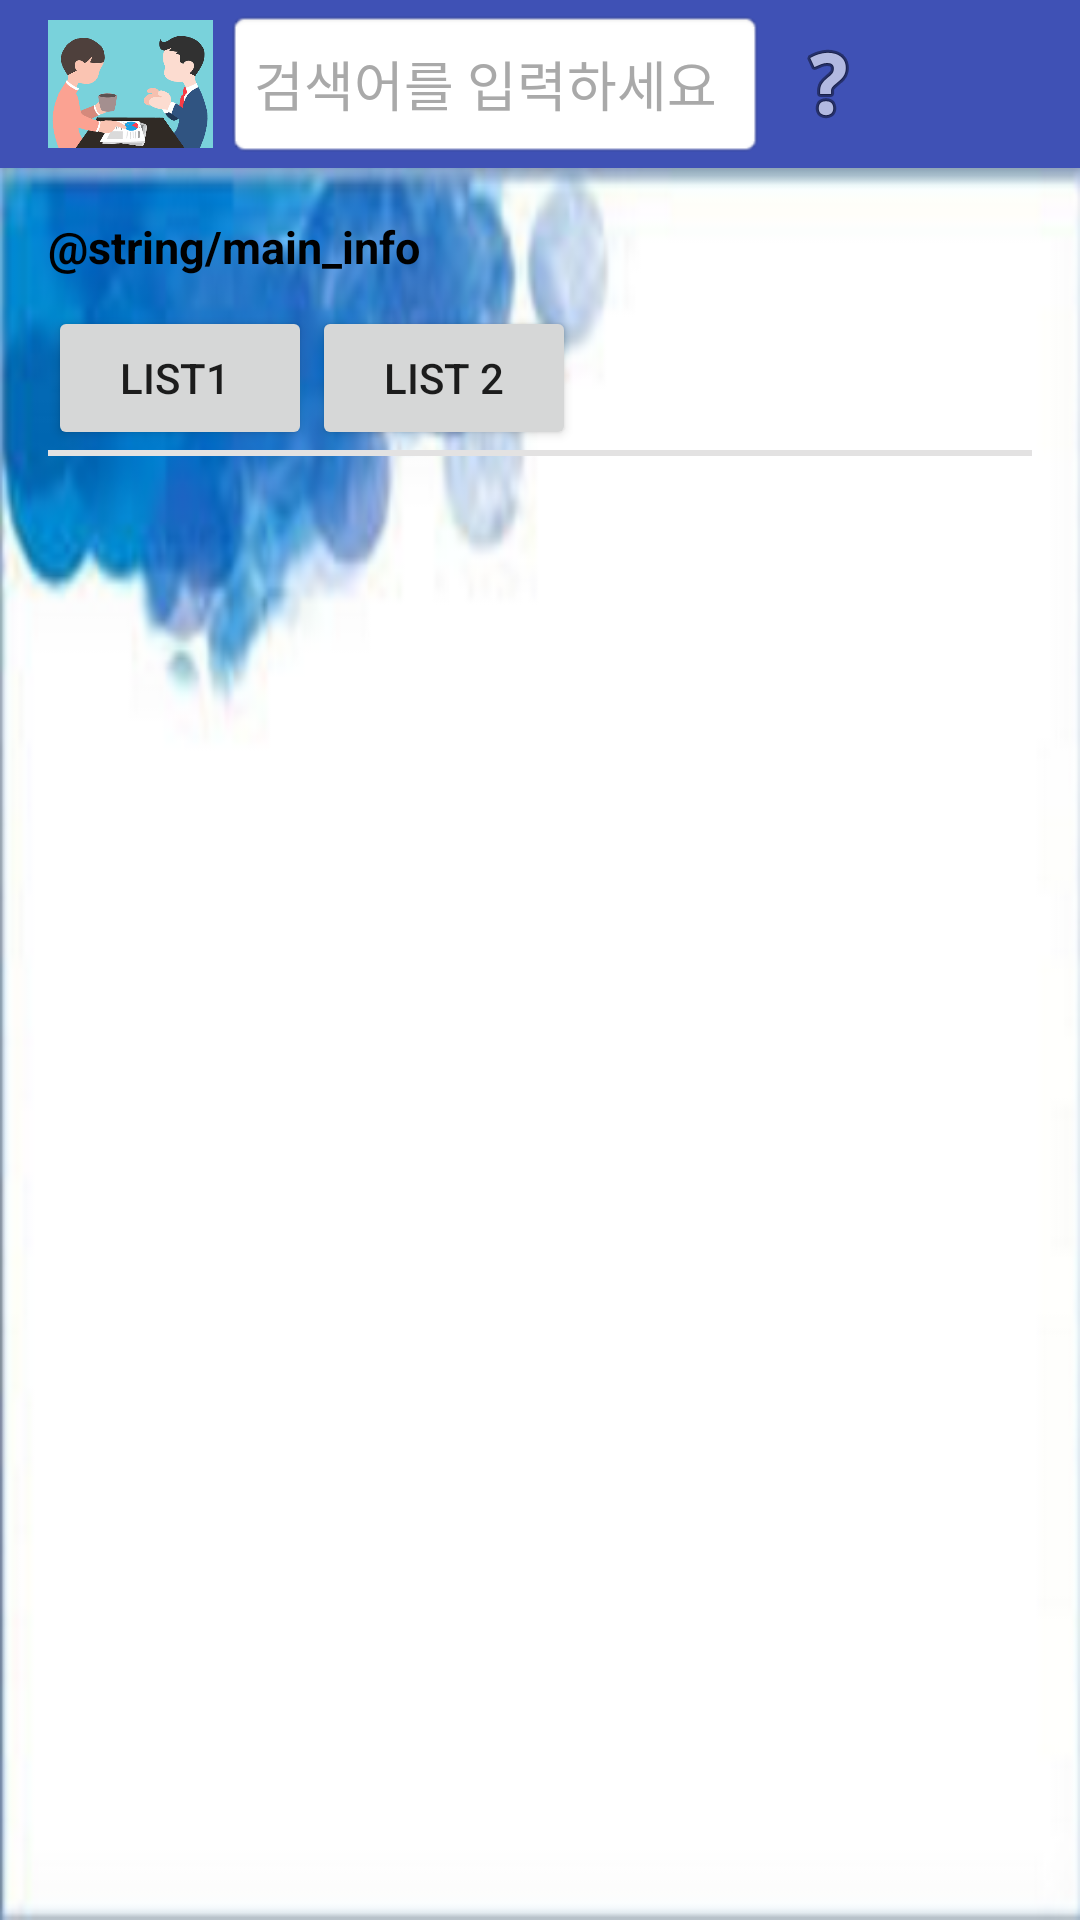

Icons on this 1080 × 1920 Android screen, each with the point to tap as (x=x, y=y):
help: (x=828, y=84)
